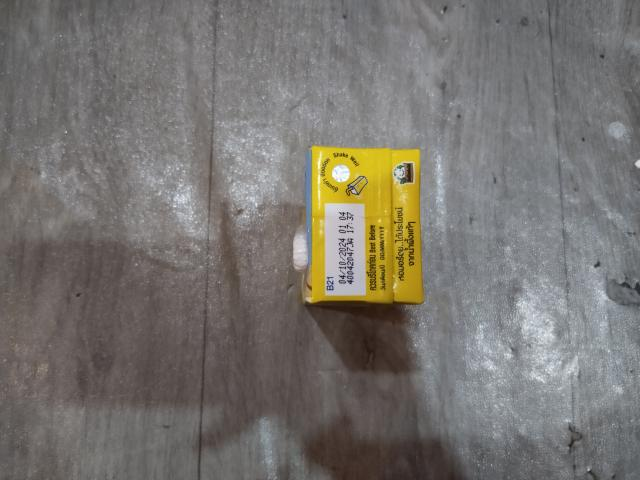drink_box: (293, 139, 436, 320)
